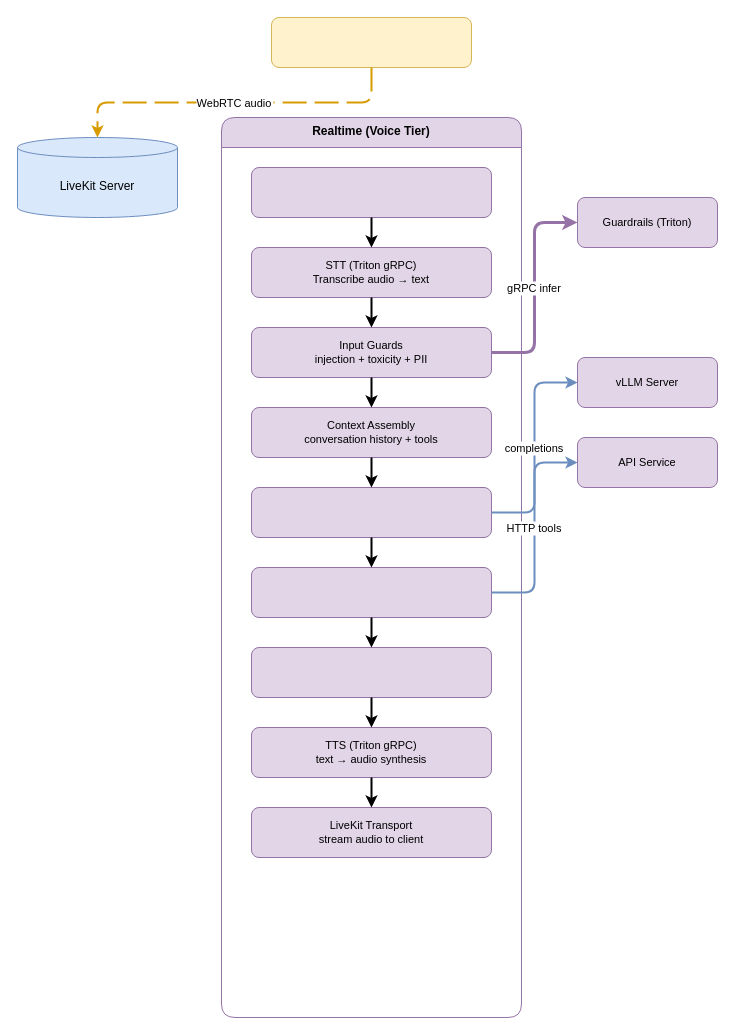
The diagram is 735 pixels wide and 1035 high, and some of its shapes have lost their labels. The shapes that lost their labels are listed below. From the top down, each one's centre as x and y in pixels, then its label:
At (x=371, y=42): "Web Client".
At (x=371, y=192): "VAD (MarbleNet ONNX) Detect speech activity".
At (x=371, y=512): "LLM Inference (vLLM) streaming completion".
At (x=371, y=592): "Tool Execution bank queries, charts".
At (x=371, y=672): "Output Guards advisory + topic filter".
